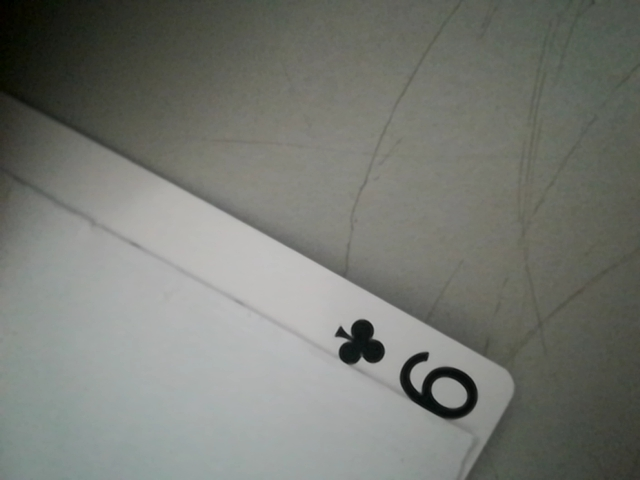mh 9: (320, 313, 495, 431)
